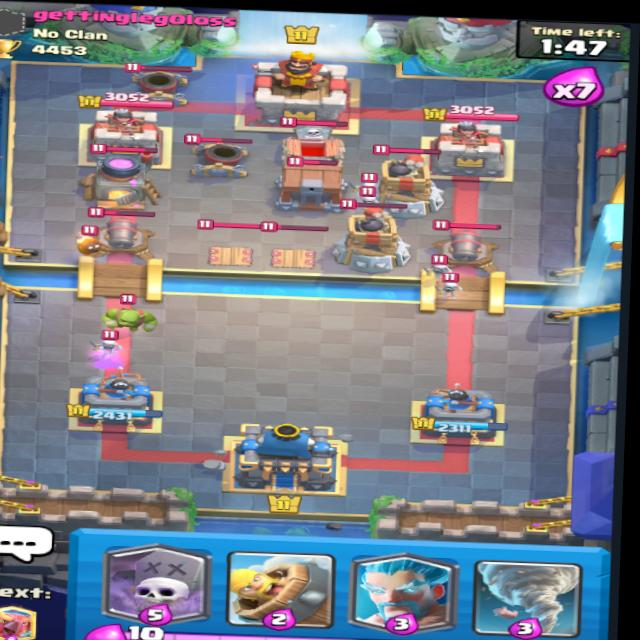Bombtower: (334, 194, 423, 273), (358, 140, 448, 217)
Cannon: (428, 215, 506, 273), (90, 205, 160, 256)
Firespirit: (76, 230, 111, 255)
Furnace: (83, 142, 170, 210)
Goblinbrawler: (101, 293, 159, 337)
Goblincage: (275, 150, 356, 208)
Mortar: (124, 51, 200, 104), (182, 133, 253, 170)
Skeleton: (95, 325, 128, 352), (356, 191, 393, 211), (420, 253, 449, 276), (435, 271, 458, 293)
Teslahidden: (256, 219, 331, 271), (195, 215, 265, 268)
Tombstone: (274, 113, 358, 163)
